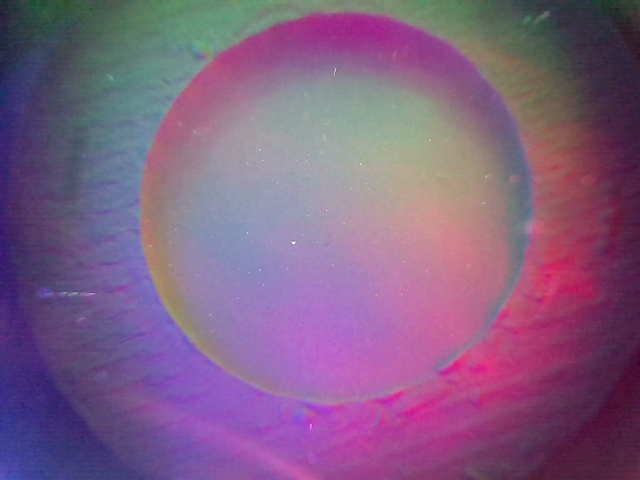contact: (142, 15, 532, 403)
